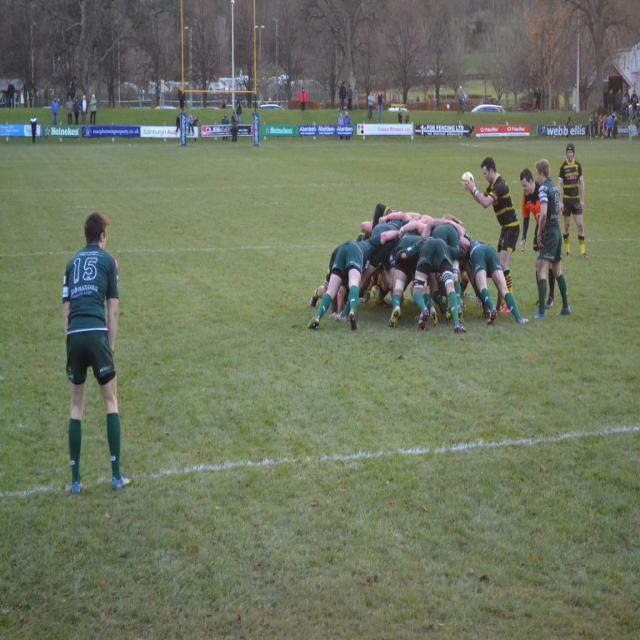ball: (462, 168, 476, 190)
